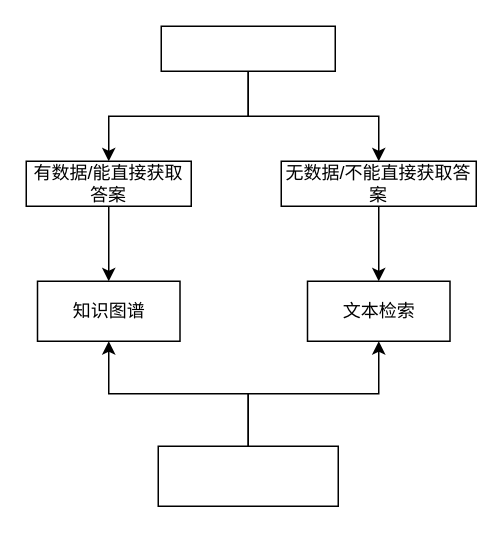
Some shapes in this 503 by 533 pixel diagram are drawn without their labels. Here are the shapes that lost their labels. From the top down, the centre of each, then its label:
(247,48): 问答系统
(247,475): 语言相似度
